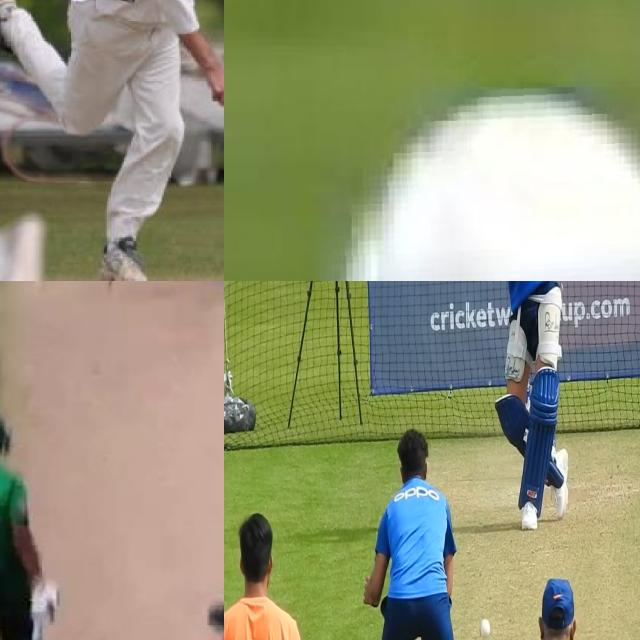Cricket ball: (331, 87, 640, 281), (478, 613, 493, 640)
